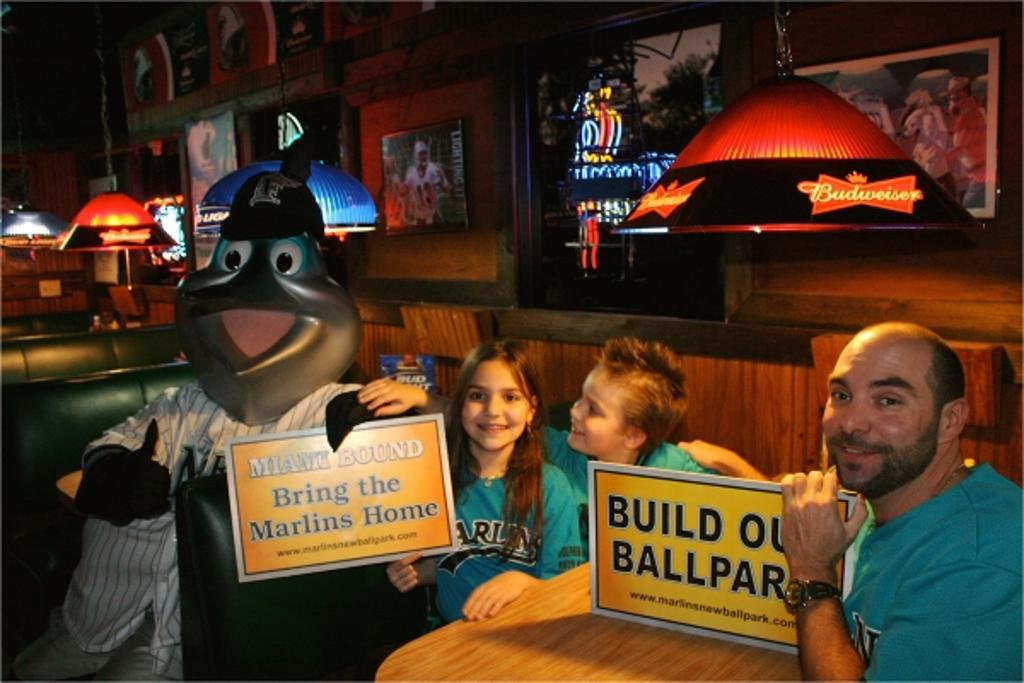face: (822, 328, 930, 488), (564, 348, 642, 454), (462, 362, 528, 448)
